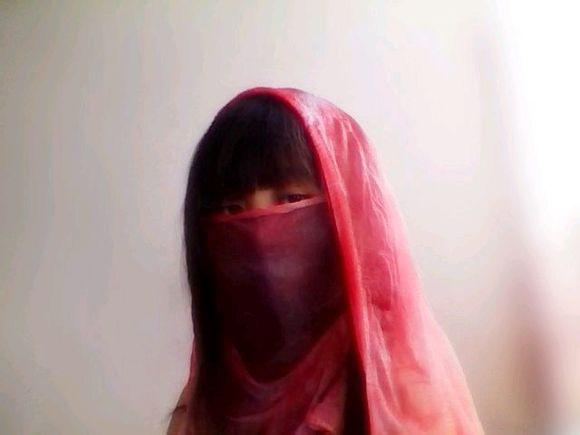OK: (201, 181, 338, 318)
